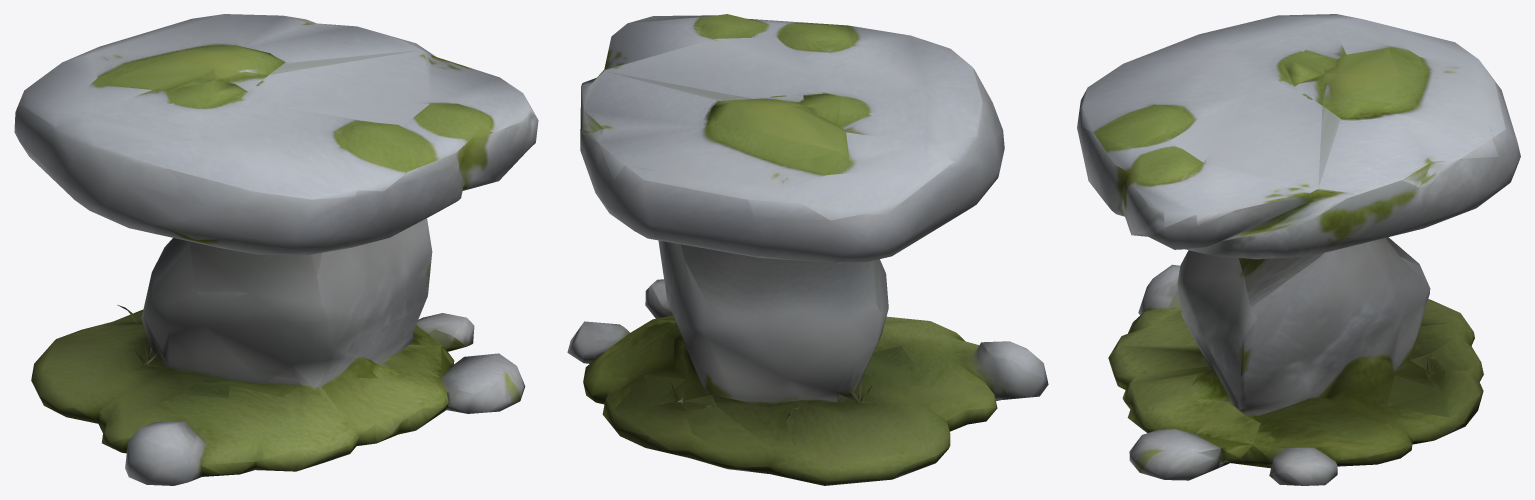
The model's file is rock_small_cluster.glb.
The picture shows the model from 3 angles, left to right: view 1: azimuth 30°, elevation 25°; view 2: azimuth 150°, elevation 25°; view 3: azimuth 270°, elevation 25°; orthographic projection. The views are drawn at different scales.
Visible parts, largest first — view 1: node_0; view 2: node_0; view 3: node_0.
Part boxes in pixels (left/top/right/bottom): node_0: left=14, top=14, right=538, bottom=485; node_0: left=567, top=14, right=1048, bottom=485; node_0: left=1077, top=14, right=1520, bottom=485.
Size of the model in its own units: 0.6629 by 0.4827 by 0.6386.
Materials: 1 (1 with a texture image).
